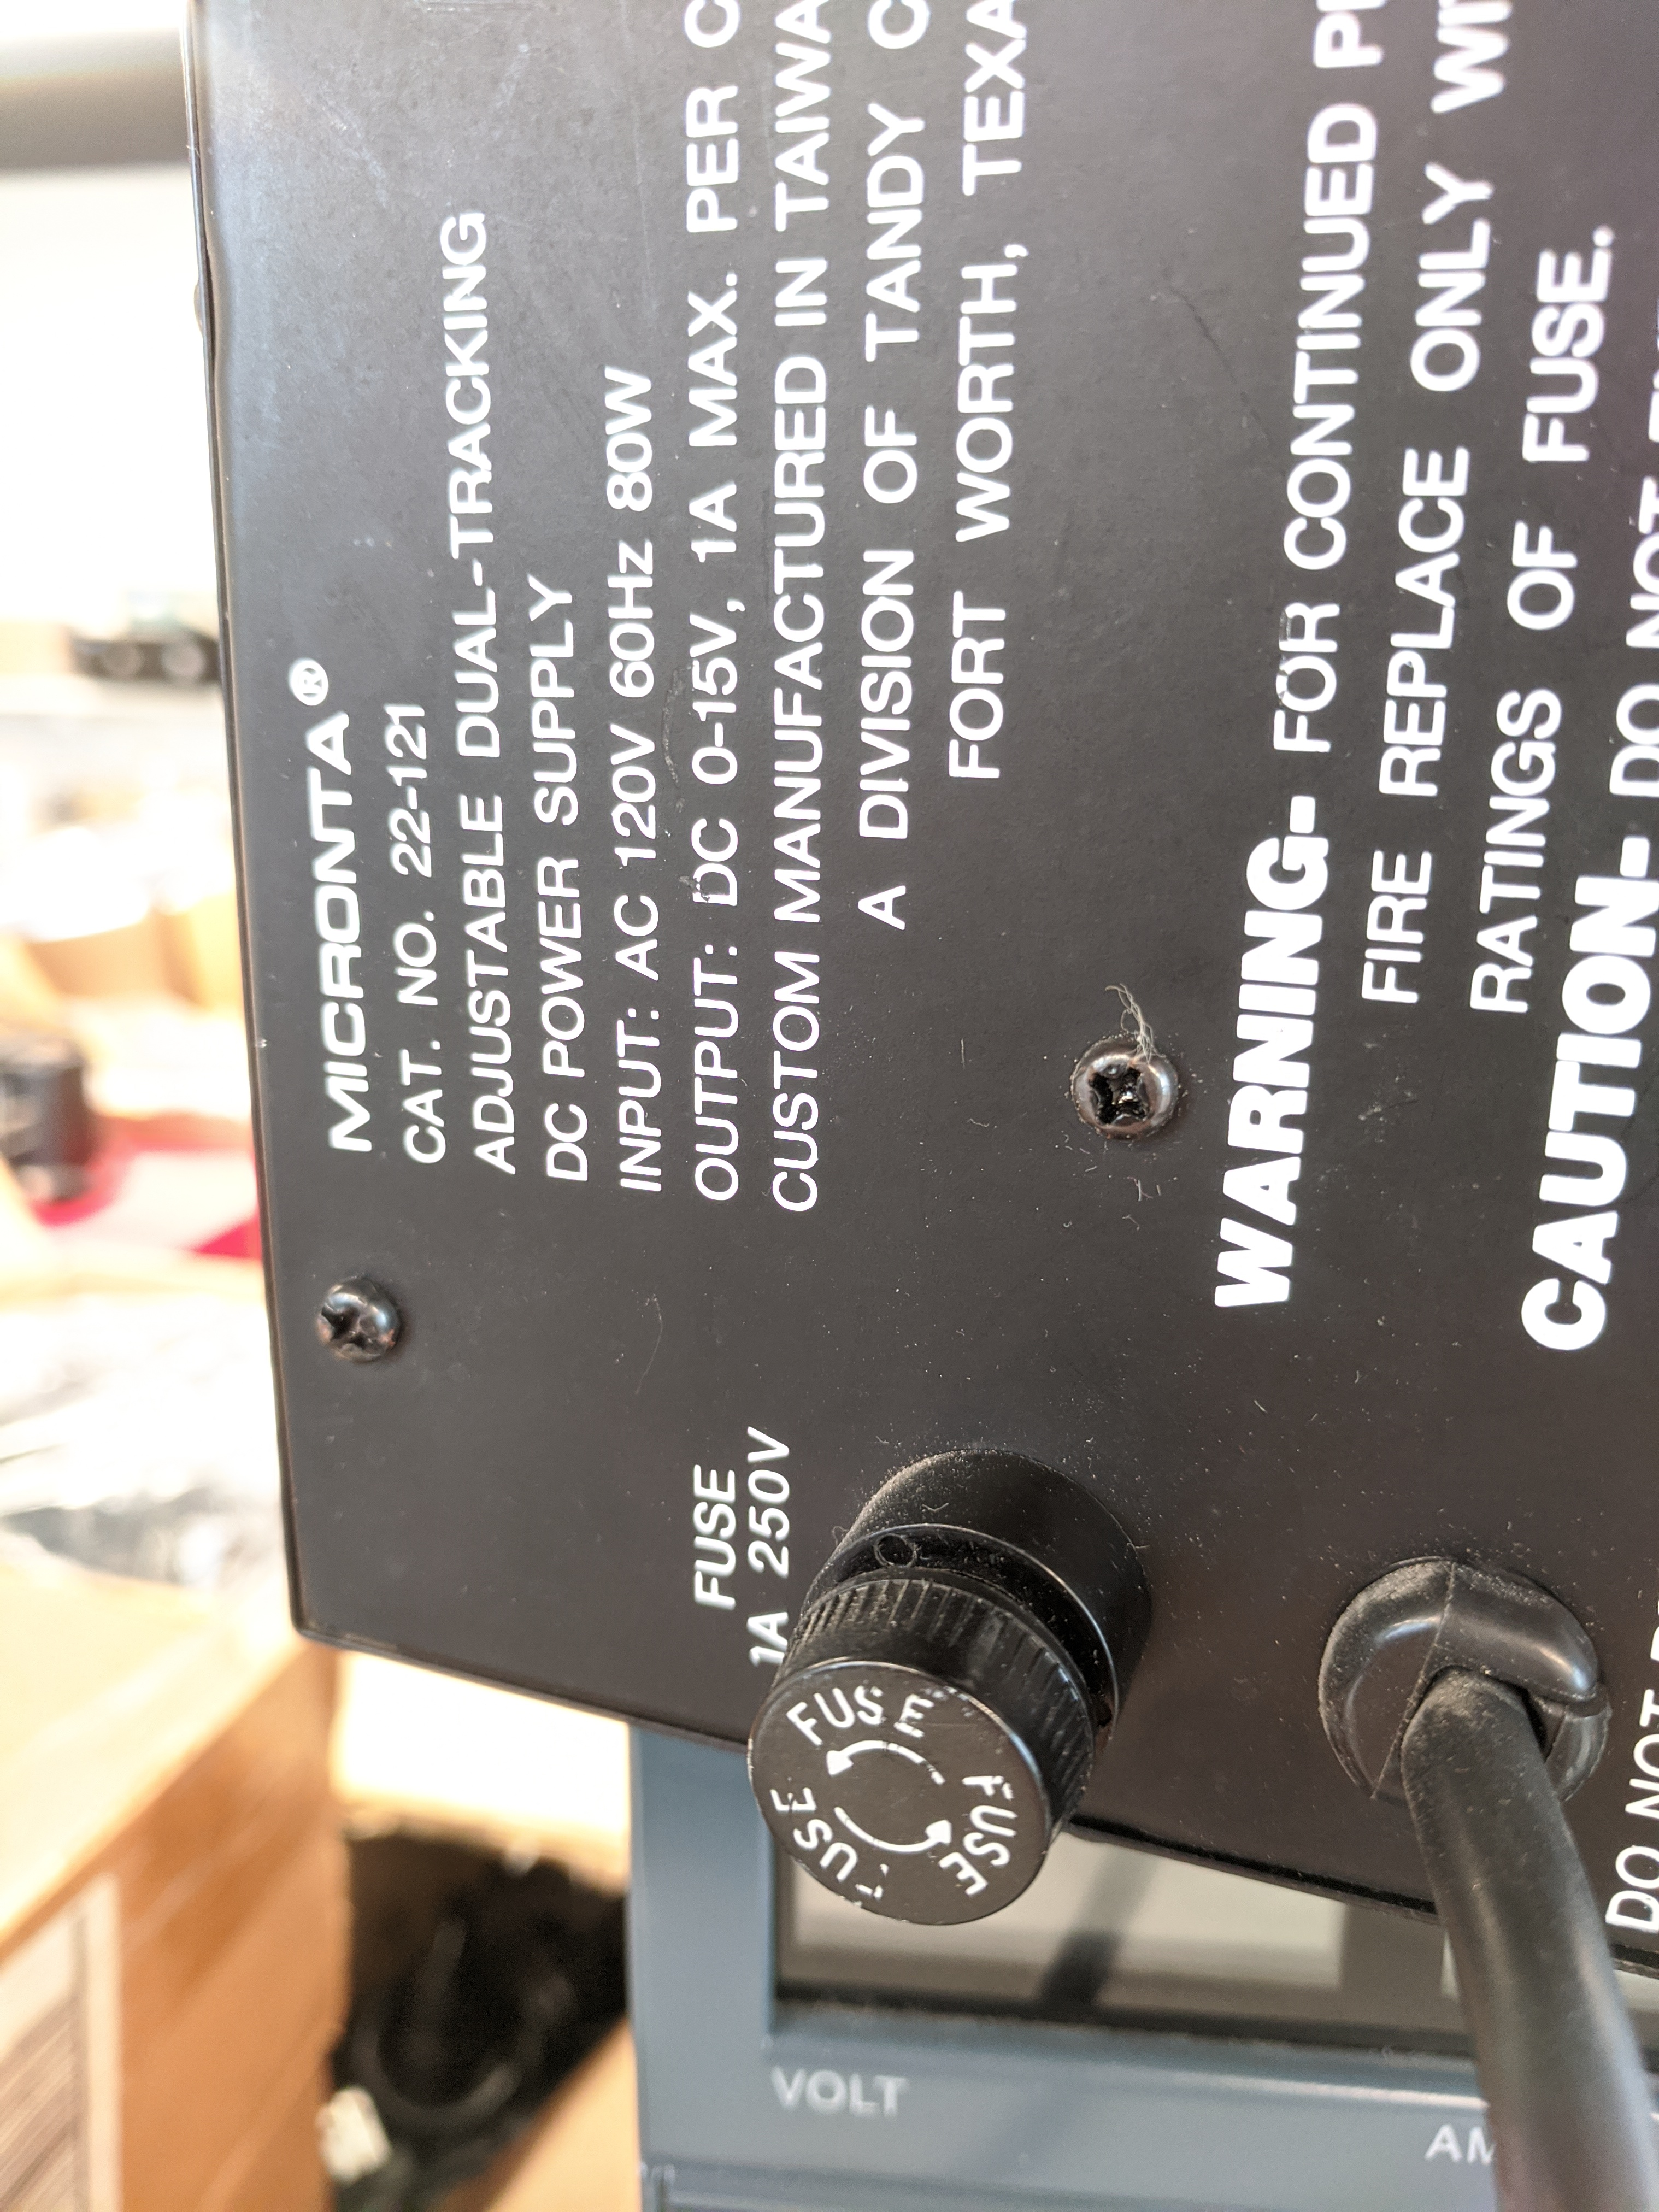cross_recessed_screw: (1058, 1026, 1188, 1148), (298, 1268, 403, 1376)
